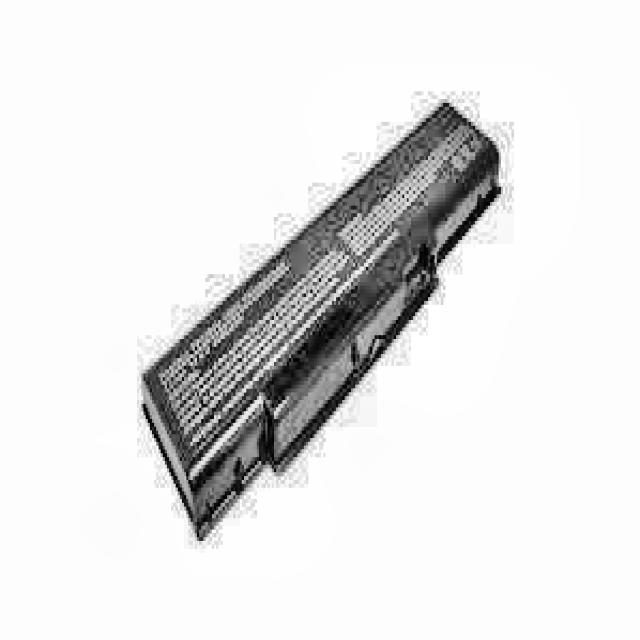Battery: (141, 103, 505, 537)
